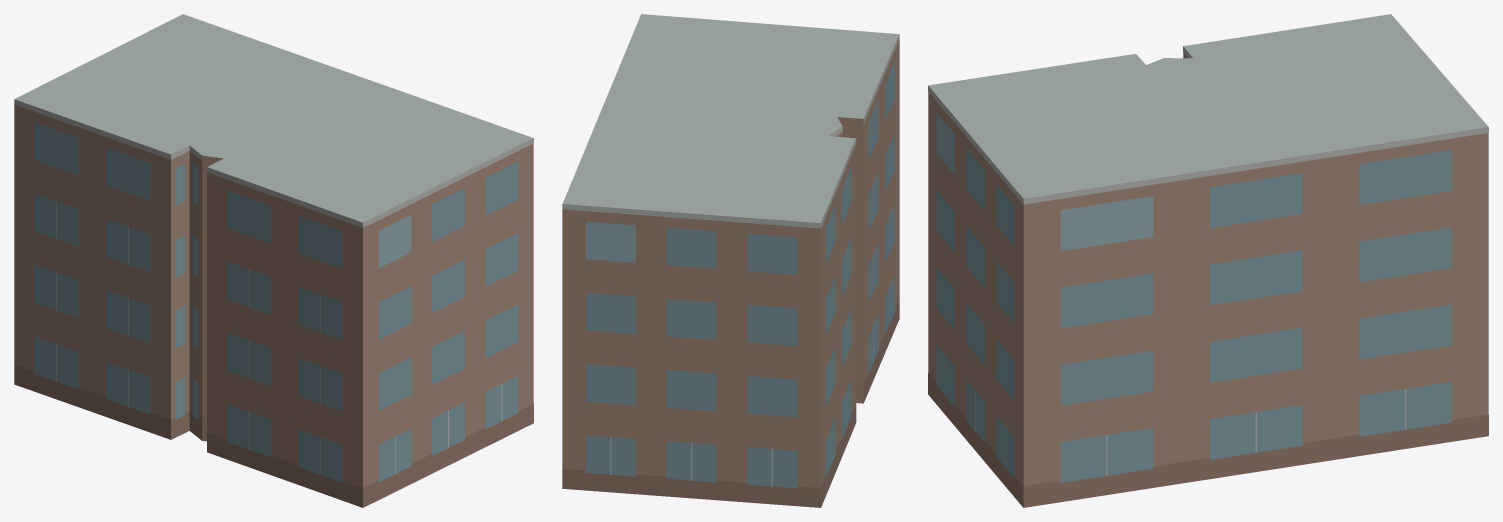
Rendered from survey-upis-32623454.glb.
3 views of the same model, side by side, from view 1: azimuth 30°, elevation 25°; view 2: azimuth 150°, elevation 25°; view 3: azimuth 270°, elevation 25° (orthographic). The views are drawn at different scales.
Visible parts, largest first — view 1: survey-upis-32623454.tmp; view 2: survey-upis-32623454.tmp; view 3: survey-upis-32623454.tmp.
Part boxes in pixels (x1=…): survey-upis-32623454.tmp: x1=14, y1=14, x2=533, y2=507; survey-upis-32623454.tmp: x1=562, y1=14, x2=899, y2=507; survey-upis-32623454.tmp: x1=928, y1=14, x2=1488, y2=507.
Bounding box in the file's own units: 16.72 × 13.02 × 21.42.
